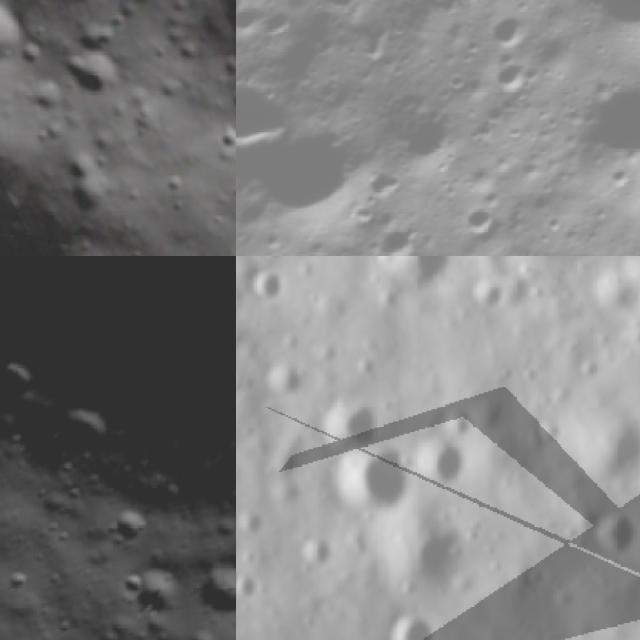crater: (236, 88, 383, 256), (561, 51, 640, 202), (323, 435, 426, 531), (384, 92, 482, 188), (380, 510, 478, 602), (562, 391, 640, 494), (45, 143, 126, 230), (0, 66, 39, 244), (307, 391, 391, 464), (56, 35, 132, 113), (359, 256, 464, 306), (41, 404, 116, 473), (408, 426, 476, 497), (0, 0, 47, 94), (582, 259, 640, 327), (250, 348, 314, 408), (578, 502, 640, 563), (358, 205, 432, 256), (479, 0, 540, 57), (69, 9, 128, 67), (188, 555, 236, 624), (448, 192, 506, 248), (240, 256, 294, 316), (488, 51, 541, 106), (0, 351, 46, 414), (376, 601, 447, 640), (462, 268, 513, 322), (289, 529, 341, 580), (102, 502, 152, 552), (147, 158, 196, 208), (130, 567, 180, 616), (202, 117, 236, 161), (236, 503, 268, 545), (407, 0, 478, 18), (236, 569, 263, 610), (624, 256, 640, 325), (173, 629, 227, 640)
